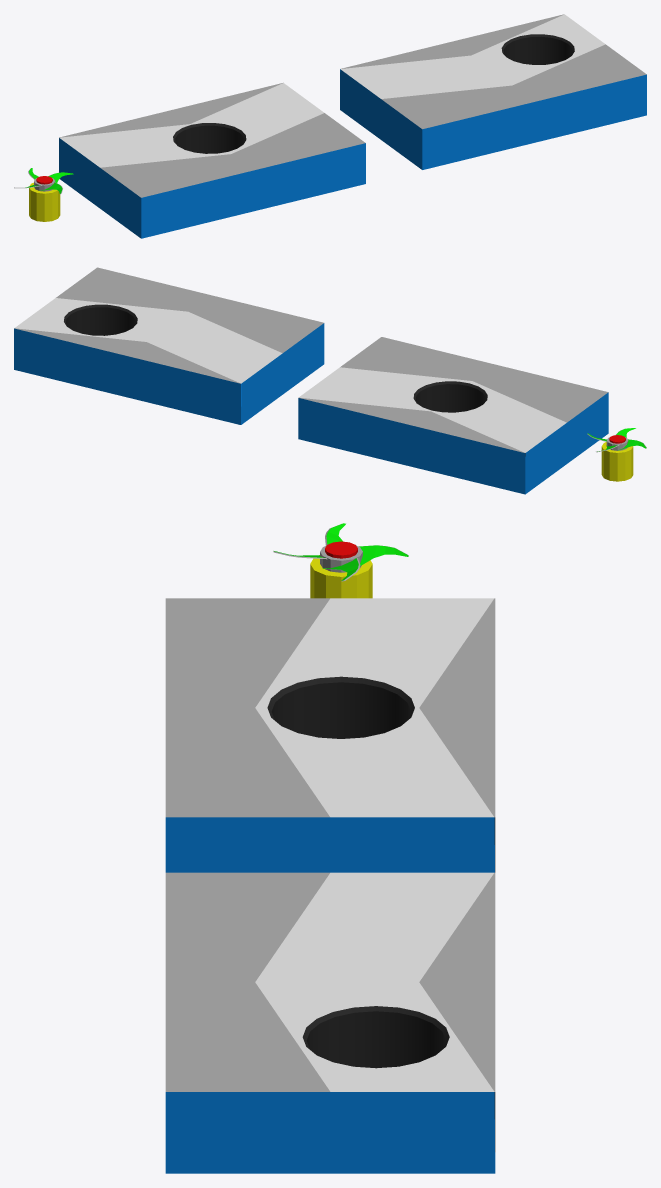
Rendered from bicakli delik.fbx.
3 views of the same model, one above another, from view 1: azimuth 30°, elevation 25°; view 2: azimuth 150°, elevation 25°; view 3: azimuth 270°, elevation 25° (orthographic). The views are drawn at different scales.
Visible parts, largest first — view 1: polySurface7, polySurface10, pCylinder18; view 2: polySurface7, polySurface10, pCylinder18; view 3: polySurface7, polySurface10, pCylinder18.
Part boxes in pixels (x1,y1,x2,y2): polySurface7: [340, 14, 646, 169]; polySurface10: [59, 82, 365, 238]; pCylinder18: [14, 168, 73, 221]; polySurface7: [14, 267, 324, 424]; polySurface10: [298, 337, 608, 494]; pCylinder18: [587, 428, 646, 481]; polySurface7: [165, 872, 495, 1173]; polySurface10: [165, 598, 495, 872]; pCylinder18: [273, 523, 408, 598].
Size of the model in its own units: 585 by 38.92 by 142.
